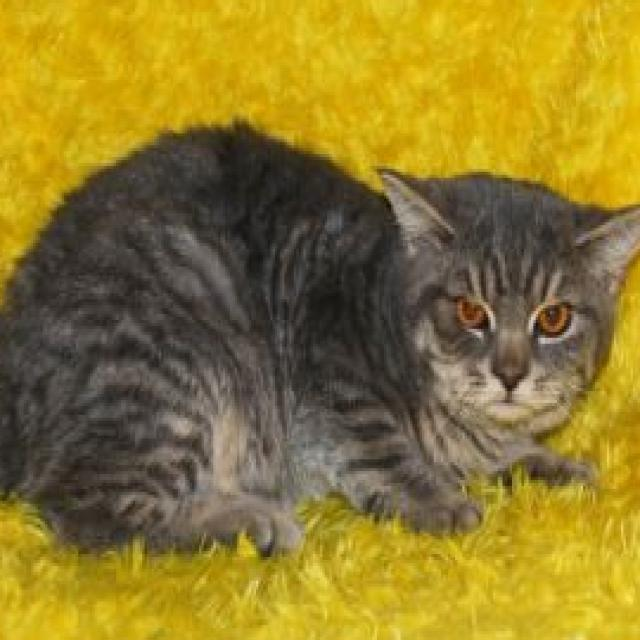British Shorthair: (0, 110, 640, 566)
